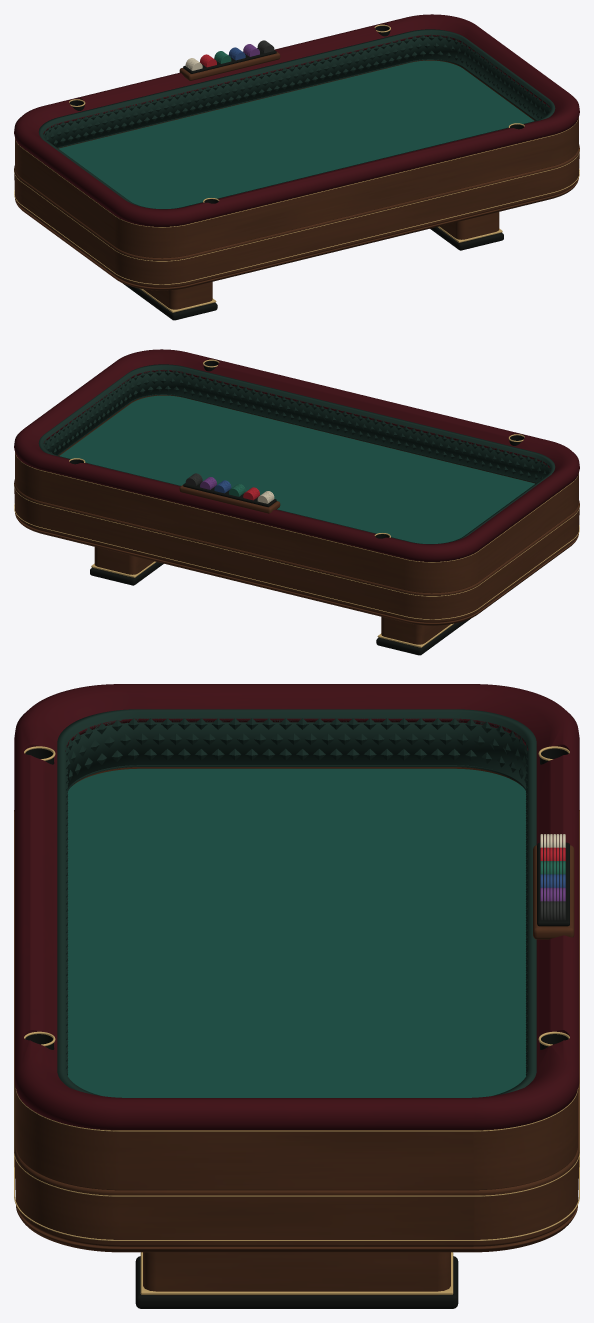
File: table.glb
The picture shows the model from 3 angles, top to bottom: view 1: azimuth 30°, elevation 25°; view 2: azimuth 150°, elevation 25°; view 3: azimuth 270°, elevation 25°; orthographic projection. The views are drawn at different scales.
Parts seen in each view (by area): view 1: Recessed pine playing bed, Sculpted upholstered oxblood rail, Raised walnut wall chassis, Substantial walnut apron, Vertical rubber bounce wall, Molded rubber pyramids, Walnut lower plinth, Walnut trestle pedestal, Walnut trestle pedestal.001, Rubber wall lower bead, Fine brass apron inlay, Dealer walnut chip rack (+5 smaller); view 2: Recessed pine playing bed, Sculpted upholstered oxblood rail, Raised walnut wall chassis, Substantial walnut apron, Vertical rubber bounce wall, Molded rubber pyramids, Walnut lower plinth, Walnut trestle pedestal, Walnut trestle pedestal.001, Rubber wall lower bead, Fine brass apron inlay, Inset black pedestal foot (+5 smaller); view 3: Recessed pine playing bed, Sculpted upholstered oxblood rail, Raised walnut wall chassis, Substantial walnut apron, Vertical rubber bounce wall, Walnut trestle pedestal.001, Molded rubber pyramids, Inset black pedestal foot.001, Walnut lower plinth, Fine brass apron inlay.001, Rack dark inset, Brass pedestal reveal.001 (+4 smaller).
Part boxes in pixels (x1,y1,x2,y2): Recessed pine playing bed: (59, 60, 534, 208); Sculpted upholstered oxblood rail: (14, 14, 579, 226); Raised walnut wall chassis: (15, 60, 578, 258); Substantial walnut apron: (14, 144, 579, 287); Vertical rubber bounce wall: (38, 29, 555, 209); Molded rubber pyramids: (43, 34, 550, 145); Walnut lower plinth: (15, 178, 578, 290); Walnut trestle pedestal: (143, 282, 212, 309); Walnut trestle pedestal.001: (439, 212, 499, 239); Rubber wall lower bead: (57, 59, 536, 148); Fine brass apron inlay: (14, 169, 579, 284); Dealer walnut chip rack: (179, 52, 280, 80); Recessed pine playing bed: (59, 395, 534, 543); Sculpted upholstered oxblood rail: (14, 349, 579, 561); Raised walnut wall chassis: (15, 395, 578, 593); Substantial walnut apron: (14, 479, 579, 622); Vertical rubber bounce wall: (38, 364, 555, 544); Molded rubber pyramids: (43, 370, 550, 479); Walnut lower plinth: (15, 513, 578, 625); Walnut trestle pedestal: (381, 617, 450, 644); Walnut trestle pedestal.001: (94, 547, 154, 574); Rubber wall lower bead: (57, 394, 536, 483); Fine brass apron inlay: (14, 504, 579, 619); Inset black pedestal foot: (376, 618, 470, 655); Recessed pine playing bed: (67, 768, 526, 1097); Sculpted upholstered oxblood rail: (14, 684, 579, 1129); Raised walnut wall chassis: (16, 767, 577, 1190); Substantial walnut apron: (14, 1083, 579, 1246); Vertical rubber bounce wall: (57, 709, 536, 1095); Walnut trestle pedestal.001: (143, 1252, 450, 1295); Molded rubber pyramids: (65, 718, 528, 1075); Inset black pedestal foot.001: (135, 1256, 458, 1308); Walnut lower plinth: (16, 1205, 577, 1252); Fine brass apron inlay.001: (14, 810, 579, 1196); Rack dark inset: (537, 842, 569, 926); Brass pedestal reveal.001: (140, 1252, 453, 1294).
Size of the model in its own units: 12.01 by 3.75 by 6.7.
13 materials, 2 textured.
